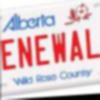License_Plate: (0, 4, 100, 90)
